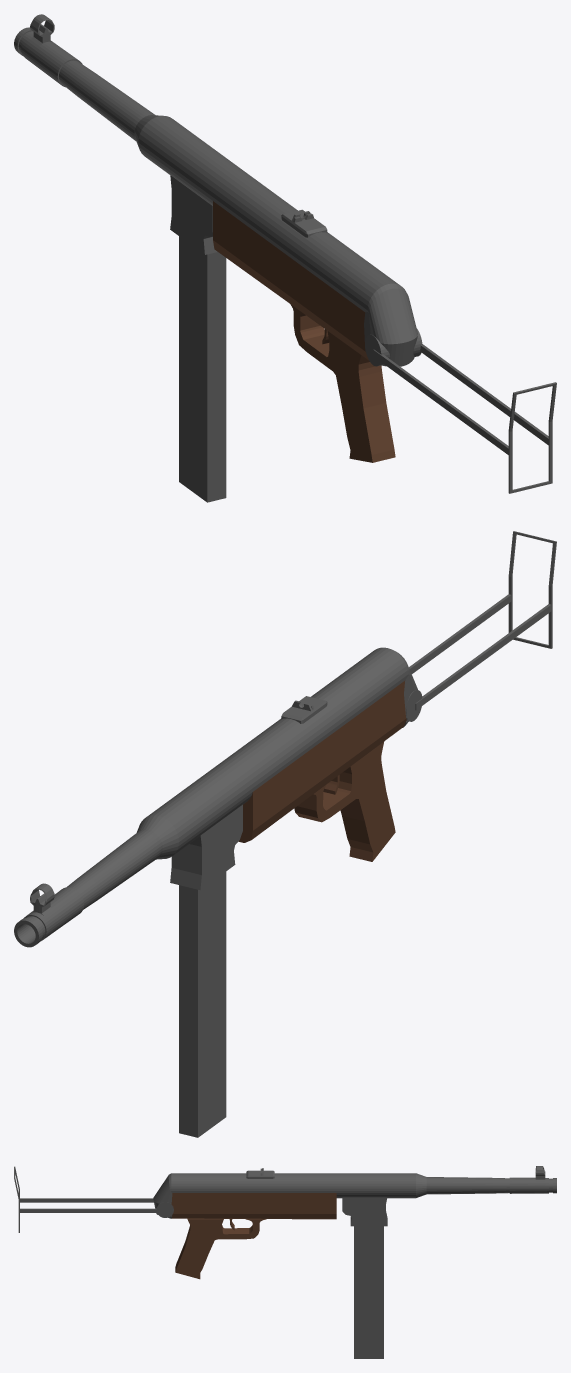
The picture shows the model from 3 angles, top to bottom: view 1: azimuth 30°, elevation 25°; view 2: azimuth 150°, elevation 25°; view 3: azimuth 270°, elevation 25°; orthographic projection. The views are drawn at different scales.
Parts seen in each view (by area): view 1: Barrel, magazine, base, trigger, buttstock, iron sight, buttstock cylinders; view 2: Barrel, magazine, base, trigger, buttstock, iron sight; view 3: Barrel, magazine, base, trigger, buttstock, iron sight.
Boxes of the visible parts, left/top/right/bottom form: Barrel: left=14, top=14, right=417, bottom=366; magazine: left=170, top=175, right=226, bottom=502; base: left=213, top=201, right=368, bottom=360; trigger: left=290, top=304, right=395, bottom=462; buttstock: left=373, top=344, right=556, bottom=493; iron sight: left=281, top=209, right=327, bottom=237; buttstock cylinders: left=365, top=328, right=422, bottom=366; Barrel: left=14, top=647, right=417, bottom=947; magazine: left=170, top=804, right=242, bottom=1137; base: left=238, top=680, right=406, bottom=842; trigger: left=294, top=741, right=395, bottom=861; buttstock: left=409, top=531, right=556, bottom=710; iron sight: left=281, top=696, right=327, bottom=723; Barrel: left=153, top=1166, right=556, bottom=1218; magazine: left=342, top=1197, right=387, bottom=1358; base: left=171, top=1193, right=336, bottom=1219; trigger: left=175, top=1218, right=266, bottom=1279; buttstock: left=14, top=1166, right=164, bottom=1232; iron sight: left=246, top=1168, right=274, bottom=1178.
Bounding box in the file's own units: 115 × 917 × 2376.
